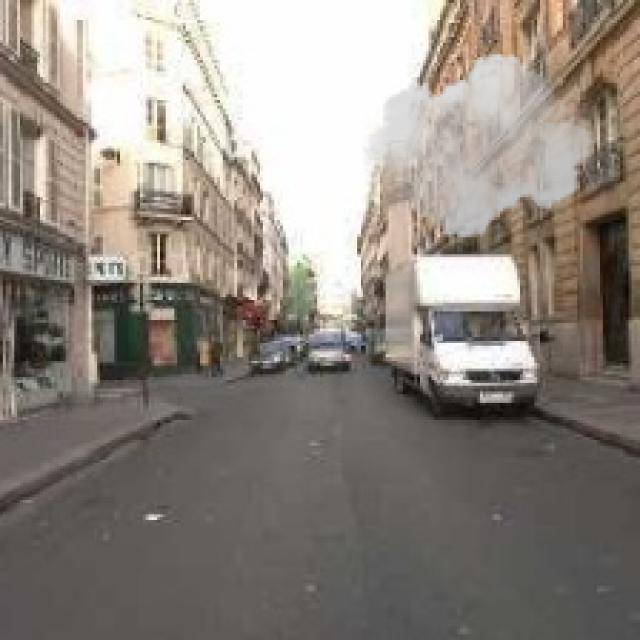smoke: (363, 46, 600, 246)
